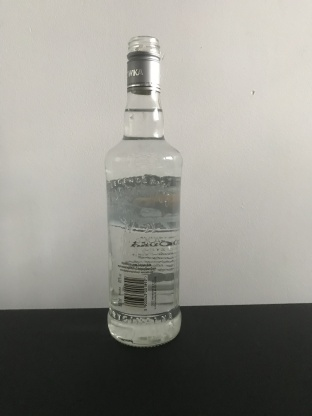nakretka: (125, 34, 162, 95)
